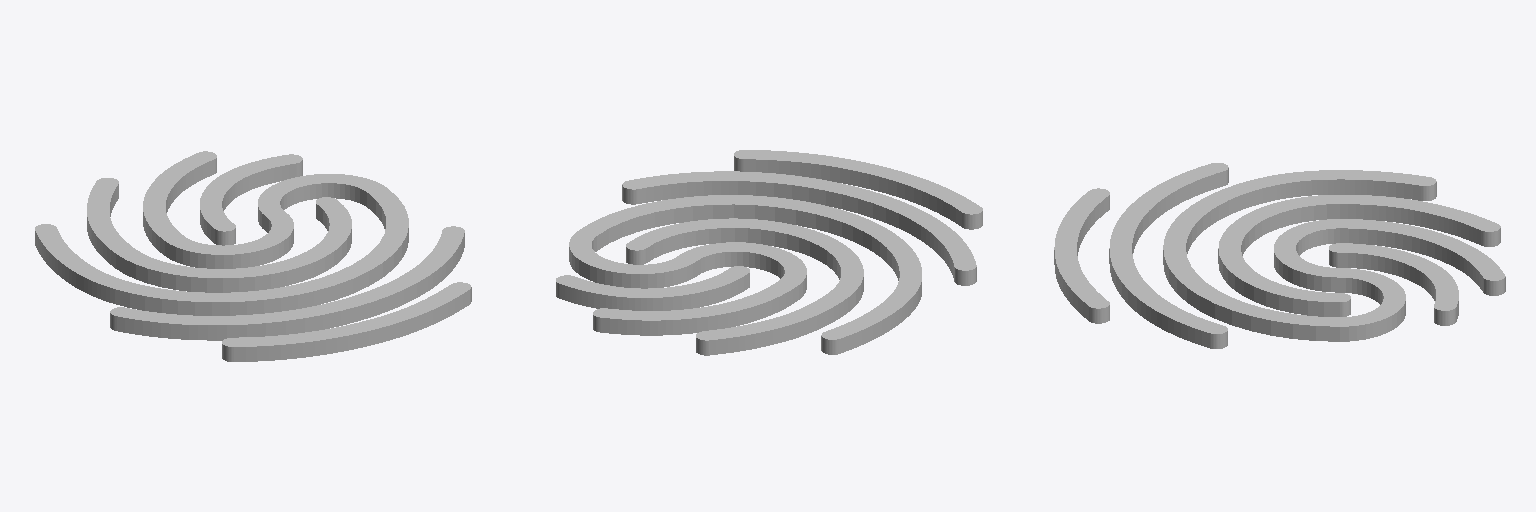
Rendered from Fingerprint.obj.
3 renders of one model, left to right at view 1: azimuth 30°, elevation 25°; view 2: azimuth 150°, elevation 25°; view 3: azimuth 270°, elevation 25°, orthographic.
Parts seen in each view (by area): view 1: Curve.001_Curve.003; view 2: Curve.001_Curve.003; view 3: Curve.001_Curve.003.
Part boxes in pixels (bbox=[...]): Curve.001_Curve.003: bbox=[35, 151, 471, 361]; Curve.001_Curve.003: bbox=[556, 150, 982, 355]; Curve.001_Curve.003: bbox=[1054, 163, 1505, 348].
Size of the model in its own units: 11.1 by 0.4546 by 12.33.